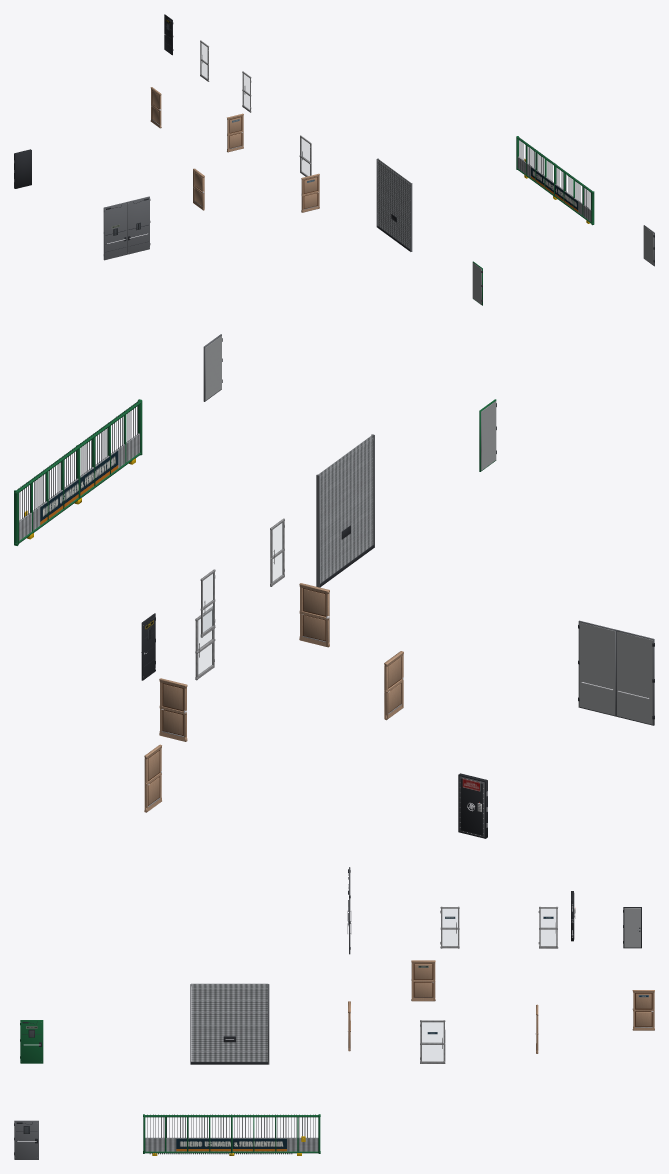
The model's file is farm_armas_dinamicos.glb.
3 views of the same model, one above another, from view 1: azimuth 30°, elevation 25°; view 2: azimuth 150°, elevation 25°; view 3: azimuth 270°, elevation 25° (orthographic). The views are drawn at different scales.
Parts seen in each view (by area): view 1: FA_Portao_Correr, FA_Portao_Doca, FA_Porta_Expedicao_E, FA_Porta_Expedicao_D, FA_Porta_Escritorio, FA_Porta_Blindada, FA_Porta_Banheiro, FA_Porta_Entrada, FA_Porta_Deposito; view 2: FA_Portao_Doca, FA_Portao_Correr, FA_Porta_Expedicao_D, FA_Porta_Expedicao_E, FA_Porta_Blindada, FA_Porta_Escritorio, FA_Porta_Banheiro, FA_Porta_Deposito, FA_Porta_Manutencao, FA_Porta_Entrada, FA_Porta_Pedestre, FA_Porta_Copa (+3 smaller); view 3: FA_Portao_Doca, FA_Portao_Correr, FA_Porta_Entrada, FA_Porta_Manutencao, FA_Porta_Deposito, FA_Porta_Pedestre, FA_Porta_Copa, FA_Porta_Diretoria, FA_Porta_Reuniao, FA_Porta_CFTV.
Part boxes in pixels (box(x1,y1,x2,y2)): FA_Portao_Correr: box(516, 136, 594, 225); FA_Portao_Doca: box(376, 158, 412, 251); FA_Porta_Expedicao_E: box(103, 202, 126, 260); FA_Porta_Expedicao_D: box(127, 196, 150, 254); FA_Porta_Escritorio: box(301, 173, 319, 212); FA_Porta_Blindada: box(14, 149, 31, 188); FA_Porta_Banheiro: box(227, 113, 243, 152); FA_Porta_Entrada: box(299, 135, 311, 176); FA_Porta_Deposito: box(193, 168, 204, 210); FA_Portao_Doca: box(316, 434, 374, 587); FA_Portao_Correr: box(14, 399, 142, 545); FA_Porta_Expedicao_D: box(578, 620, 616, 716); FA_Porta_Expedicao_E: box(616, 630, 654, 725); FA_Porta_Blindada: box(458, 773, 487, 838); FA_Porta_Escritorio: box(299, 583, 329, 647); FA_Porta_Banheiro: box(159, 678, 187, 741); FA_Porta_Deposito: box(384, 651, 403, 720); FA_Porta_Manutencao: box(479, 399, 496, 471); FA_Porta_Entrada: box(195, 606, 215, 680); FA_Porta_Pedestre: box(203, 334, 222, 401); FA_Porta_Copa: box(144, 744, 161, 812); FA_Portao_Doca: box(190, 983, 269, 1064); FA_Portao_Correr: box(143, 1114, 320, 1155); FA_Porta_Entrada: box(420, 1020, 445, 1063); FA_Porta_Manutencao: box(20, 1020, 43, 1063); FA_Porta_Deposito: box(411, 960, 435, 1001); FA_Porta_Pedestre: box(14, 1120, 38, 1159); FA_Porta_Copa: box(632, 990, 654, 1030); FA_Porta_Diretoria: box(440, 906, 459, 948); FA_Porta_Reuniao: box(538, 906, 558, 948); FA_Porta_CFTV: box(623, 907, 641, 948).
Size of the model in its own units: 26.82 by 6.89 by 31.27.
16 materials, 14 textured.
